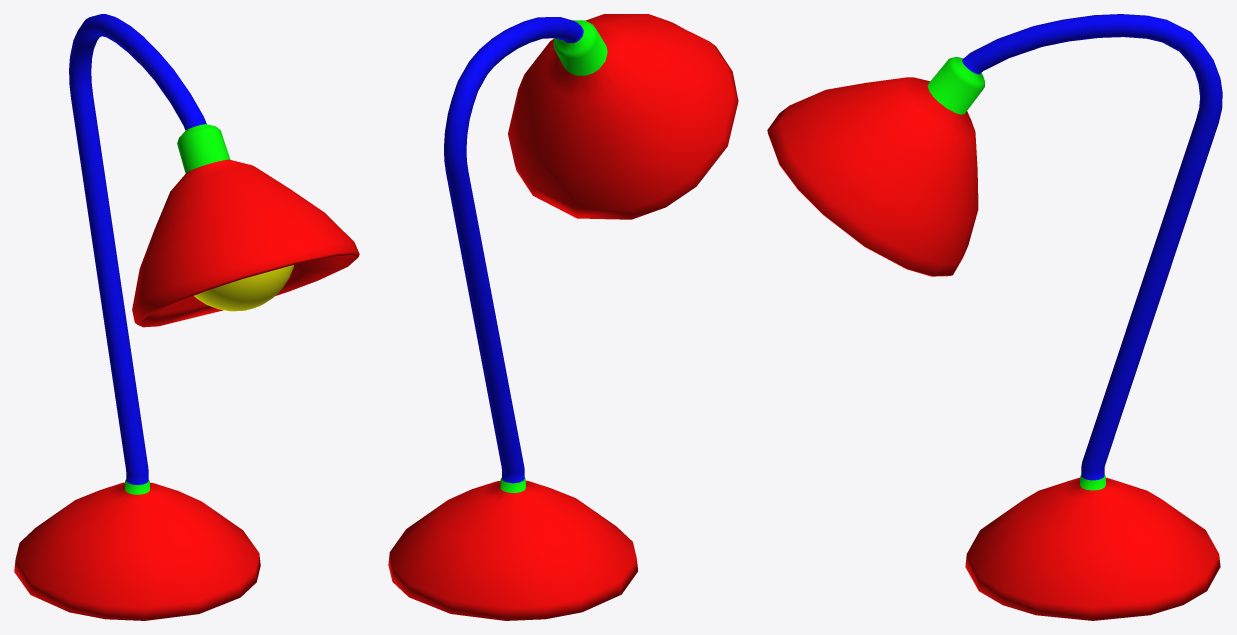
Rendered from Lámpara.fbx.
The picture shows the model from 3 angles, left to right: view 1: azimuth 30°, elevation 25°; view 2: azimuth 150°, elevation 25°; view 3: azimuth 270°, elevation 25°; orthographic projection. The views are drawn at different scales.
Parts seen in each view (by area): view 1: Lámpara, Ampolleta; view 2: Lámpara; view 3: Lámpara.
Part boxes in pixels (x1,y1,x2,y2): Lámpara: [14, 14, 359, 620]; Ampolleta: [194, 265, 293, 311]; Lámpara: [388, 14, 738, 620]; Lámpara: [767, 14, 1222, 620].
Size of the model in its own units: 21.01 by 50.13 by 37.47.
